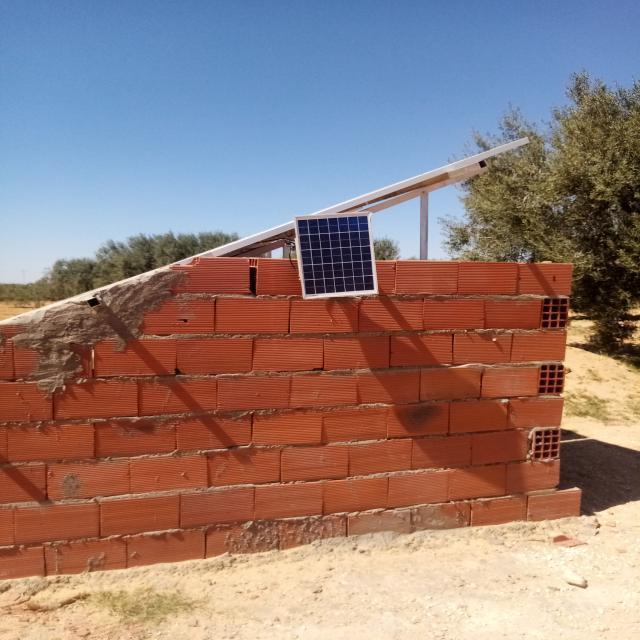Normal Solar Panel: (295, 212, 378, 298)
